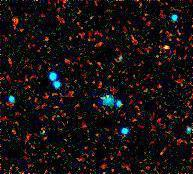star: (153, 35, 183, 65)
